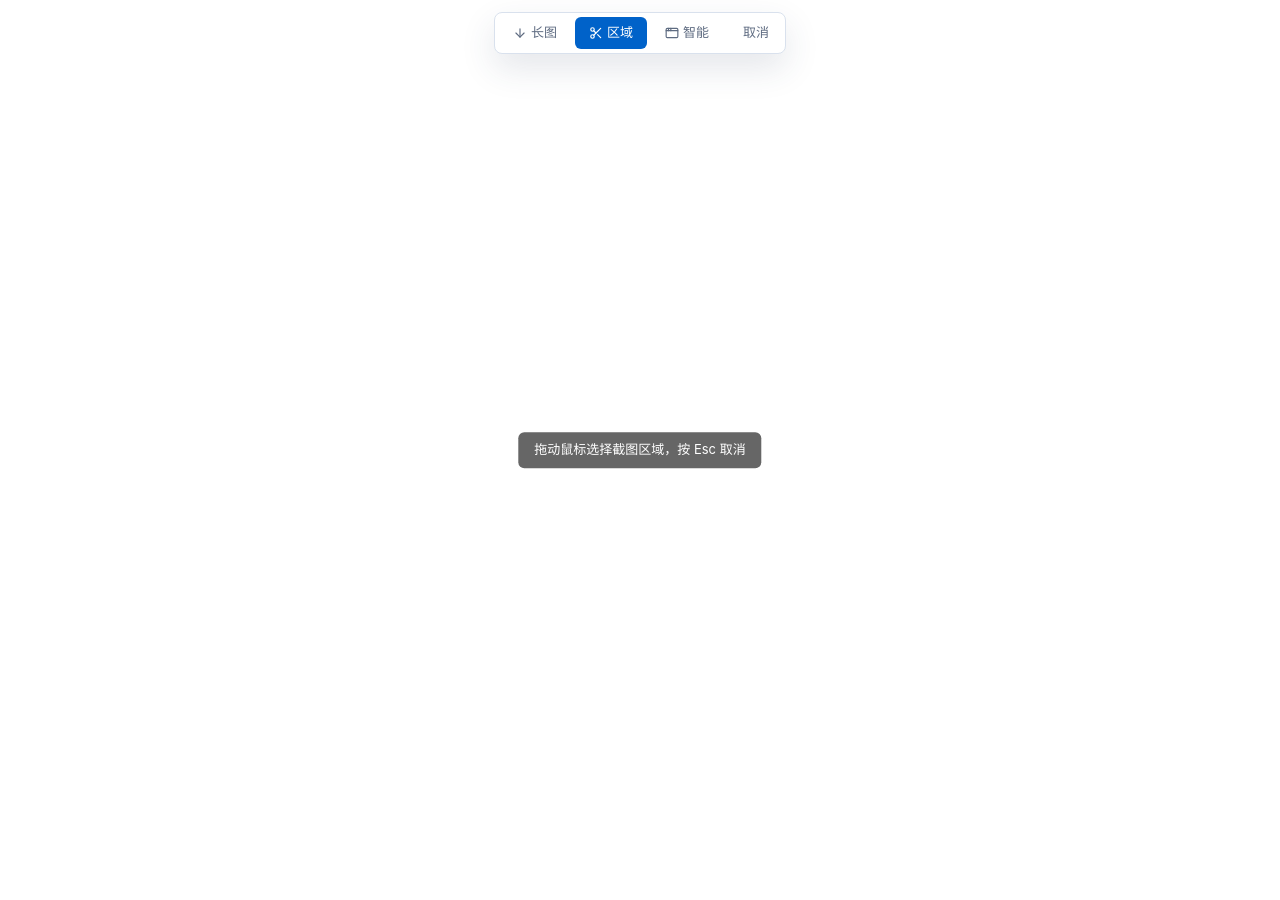
Test: ScreenshotTool 选区调整 › 默认选中移动工具，并渲染选区调整层
Press the mouse on the element with class "ss-overlay" at (640, 450), box [494,12,786,468]
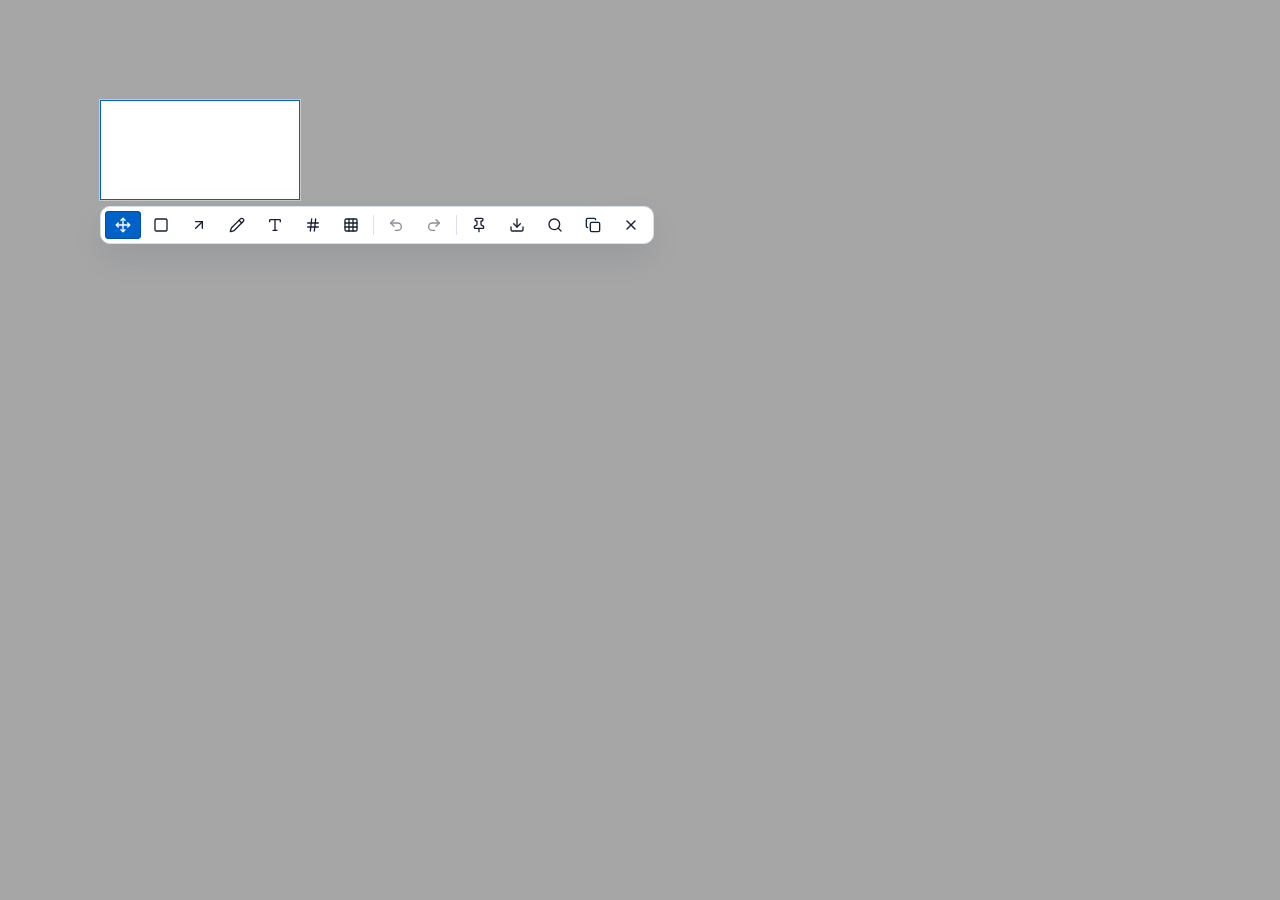
Result: the element with class "ss-adjust-body" is shown at [100,100,300,200]
Result: the number of elements with class "ss-adjust-handle" is 8
Result: the 8th element with class "ss-adjust-handle" is shown at [293,193,307,207]
